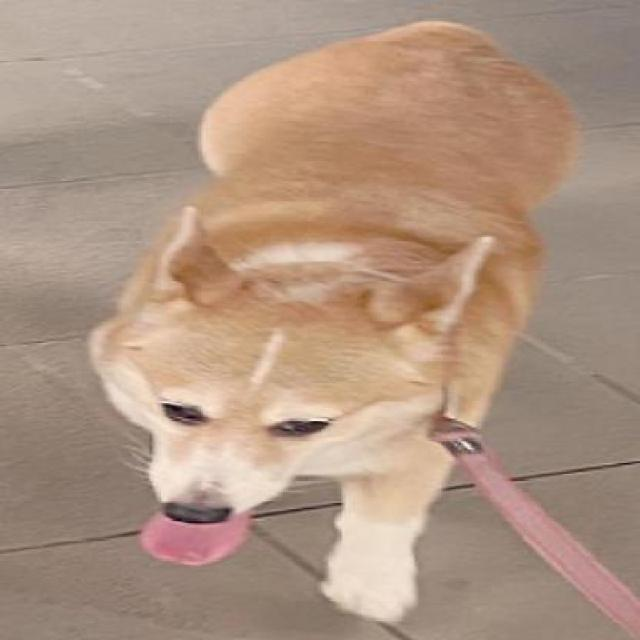Dog: (80, 18, 580, 624)
